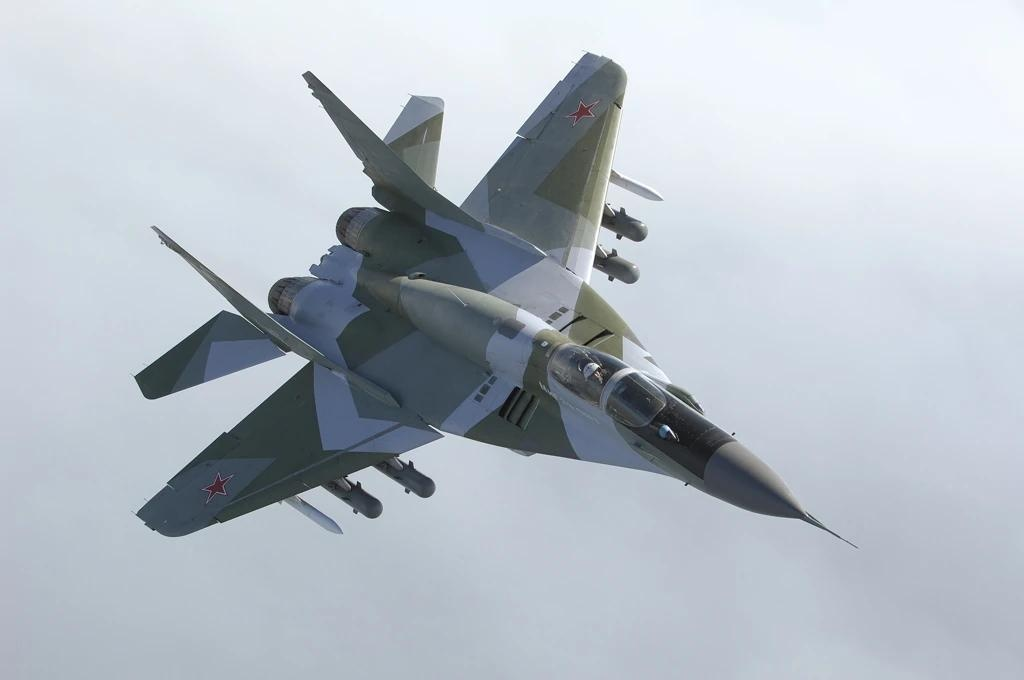aircraft: (116, 53, 855, 541)
